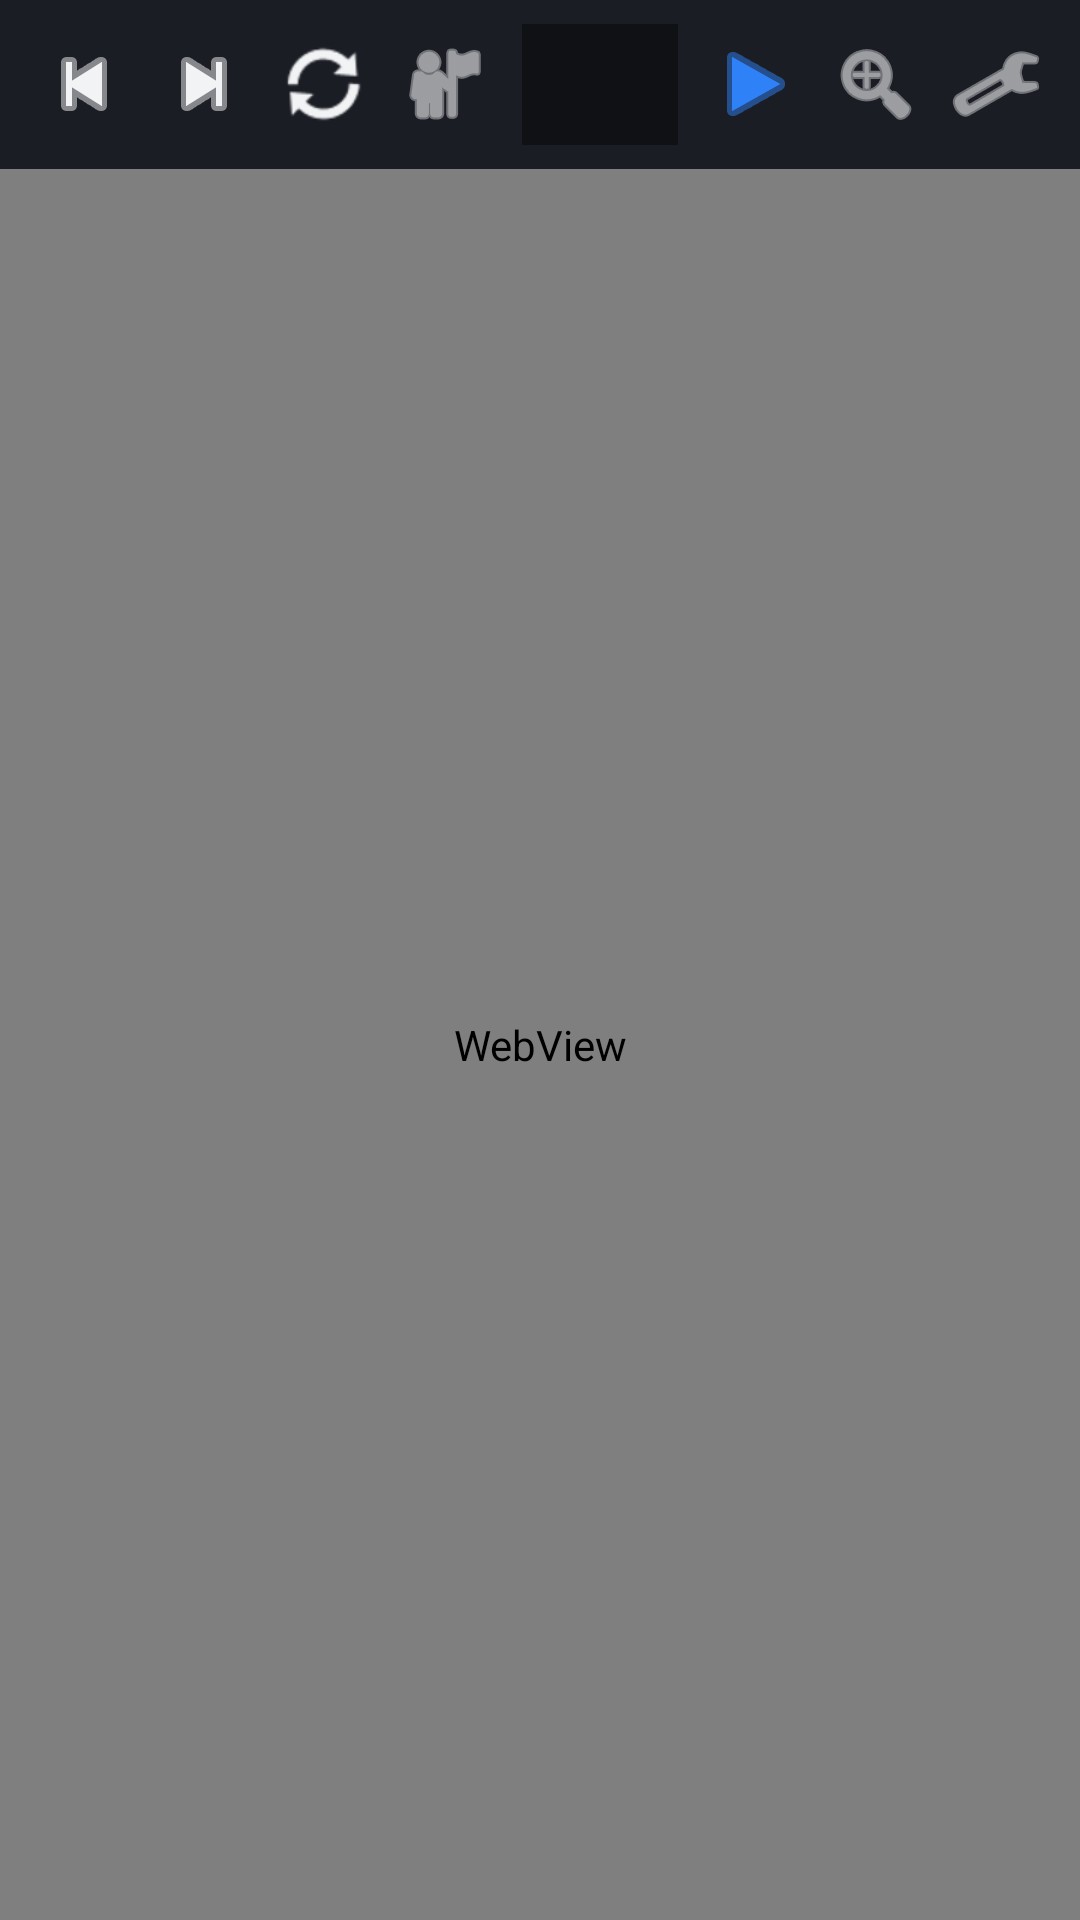

Where to tap for icons on this 1080px×1920px app screen, as point (x, y):
Back: point (84, 84)
Forward: point (204, 84)
Go: point (756, 84)
Refresh: point (324, 84)
